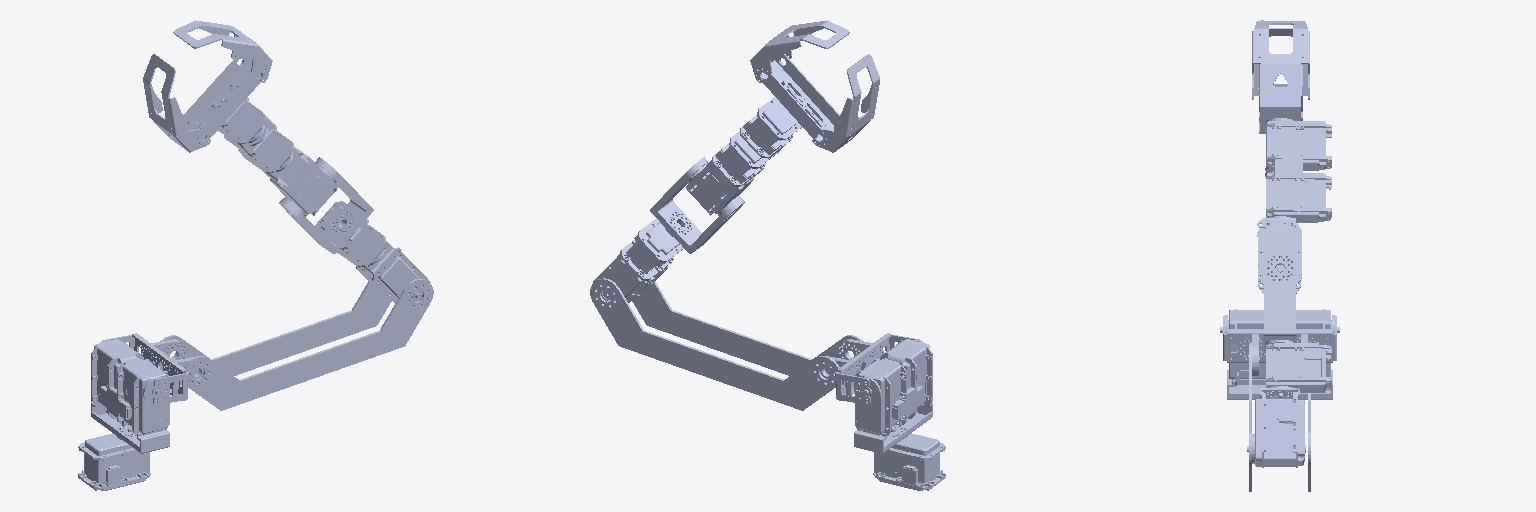
URDF robot description (doris_arm_description):
<?xml version="1.0" encoding="utf-8"?>
<!-- This URDF was automatically created by SolidWorks to URDF Exporter! Originally created by [author] ([email redacted]) 
     Commit Version: 1.6.0-1-g15f4949  Build Version: 1.6.7594.29634
     For more information, please see http://wiki.ros.org/sw_urdf_exporter -->
<robot name="doris_arm_description">
  <link name="arm_base_link">
    <inertial>
      <origin xyz="0.0032335 -3.6289E-06 0.02346" rpy="0 0 0" />
      <mass value="0.086496" />
      <inertia ixx="2.3059E-05" ixy="1.641E-09" ixz="-1.0628E-06" iyy="4.136E-05" iyz="-2.3103E-09" izz="3.2692E-05" />
    </inertial>
    <visual>
      <origin xyz="0 0 0" rpy="0 0 0" />
      <geometry>
        <mesh filename="package://doris_arm_description/meshes/arm_base_link.STL" />
      </geometry>
      <material name="">
        <color rgba="0.79216 0.81961 0.93333 1" />
      </material>
    </visual>
    <collision>
      <origin xyz="0 0 0" rpy="0 0 0" />
      <geometry>
        <mesh filename="package://doris_arm_description/meshes/arm_base_link.STL" />
      </geometry>
    </collision>
  </link>
  <link name="shoulder_link">
    <inertial>
      <origin xyz="1.80019426116503E-06 0.0469908207821207 1.02798098779305E-05" rpy="0 0 0" />
      <mass value="0.187371975468428" />
      <inertia ixx="9.67030340377893E-05" ixy="2.4150387752157E-12" ixz="4.62672389438557E-09" iyy="6.1510621044743E-05" iyz="7.92925862950938E-12" izz="6.80166975361327E-05" />
    </inertial>
    <visual>
      <origin xyz="0 0 0" rpy="0 0 0" />
      <geometry>
        <mesh filename="package://doris_arm_description/meshes/shoulder_link.STL" />
      </geometry>
      <material name="">
        <color rgba="0.792156862745098 0.819607843137255 0.933333333333333 1" />
      </material>
    </visual>
    <collision>
      <origin xyz="0 0 0" rpy="0 0 0" />
      <geometry>
        <mesh filename="package://doris_arm_description/meshes/shoulder_link.STL" />
      </geometry>
    </collision>
  </link>
  <joint name="shoulder_joint" type="continuous">
    <origin xyz="0.018961 0 0.049" rpy="1.5708 0 0" />
    <parent link="arm_base_link" />
    <child link="shoulder_link" />
    <axis xyz="0 1 0" />
    <limit effort="10.6" velocity="6.28" />
  </joint>
  <link name="forearm_link">
    <inertial>
      <origin xyz="-1.08638707938674E-05 0.145957509942709 0.00428434606455026" rpy="0 0 0" />
      <mass value="0.0731491894717436" />
      <inertia ixx="0.00041066540204533" ixy="-8.83711845735471E-13" ixz="6.82686577821298E-14" iyy="4.65670049898224E-05" iyz="5.99306396840699E-05" izz="0.000406035632117776" />
    </inertial>
    <visual>
      <origin xyz="0 0 0" rpy="0 0 0" />
      <geometry>
        <mesh filename="package://doris_arm_description/meshes/forearm_link.STL" />
      </geometry>
      <material name="">
        <color rgba="0.792156862745098 0.819607843137255 0.933333333333333 1" />
      </material>
    </visual>
    <collision>
      <origin xyz="0 0 0" rpy="0 0 0" />
      <geometry>
        <mesh filename="package://doris_arm_description/meshes/forearm_link.STL" />
      </geometry>
    </collision>
  </link>
  <joint name="forearm_shoulder_joint" type="continuous">
    <origin xyz="0 0.0656 0" rpy="0.93003 1.5708 -0.7" />
    <parent link="shoulder_link" />
    <child link="forearm_link" />
    <axis xyz="1 0 0" />
    <limit effort="21.2" velocity="6.28" />
  </joint>
  <link name="elbow_link">
    <inertial>
      <origin xyz="-3.11104449999267E-05 -0.0168263295023695 0.000457294178247414" rpy="0 0 0" />
      <mass value="0.0892046248471317" />
      <inertia ixx="4.19114884689815E-05" ixy="7.60313851177211E-09" ixz="2.31004133361254E-09" iyy="2.38301704178671E-05" iyz="-1.0628369231195E-06" izz="3.29468296689027E-05" />
    </inertial>
    <visual>
      <origin xyz="0 0 0" rpy="0 0 0" />
      <geometry>
        <mesh filename="package://doris_arm_description/meshes/elbow_link.STL" />
      </geometry>
      <material name="">
        <color rgba="0.792156862745098 0.819607843137255 0.933333333333333 1" />
      </material>
    </visual>
    <collision>
      <origin xyz="0 0 0" rpy="0 0 0" />
      <geometry>
        <mesh filename="package://doris_arm_description/meshes/elbow_link.STL" />
      </geometry>
    </collision>
  </link>
  <joint name="elbow_joint" type="continuous">
    <origin xyz="0 0.30821 -0.040455" rpy="1.5708 -0.74886 -1.5708" />
    <parent link="forearm_link" />
    <child link="elbow_link" />
    <axis xyz="0 0 1" />
    <limit effort="10.6" velocity="6.28" />
  </joint>
  <link name="roll_link">
    <inertial>
      <origin xyz="1.19120197594746E-08 -0.010083697233814 -0.0945595691856148" rpy="0 0 0" />
      <mass value="0.108644948048519" />
      <inertia ixx="5.28153270287721E-05" ixy="-1.47234666202985E-09" ixz="1.52885572695569E-09" iyy="5.77906922347199E-05" iyz="-3.14860619233111E-07" izz="4.90755786683178E-05" />
    </inertial>
    <visual>
      <origin xyz="0 0 0" rpy="0 0 0" />
      <geometry>
        <mesh filename="package://doris_arm_description/meshes/roll_link.STL" />
      </geometry>
      <material name="">
        <color rgba="0.792156862745098 0.819607843137255 0.933333333333333 1" />
      </material>
    </visual>
    <collision>
      <origin xyz="0 0 0" rpy="0 0 0" />
      <geometry>
        <mesh filename="package://doris_arm_description/meshes/roll_link.STL" />
      </geometry>
    </collision>
  </link>
  <joint name="roll_joint" type="continuous">
    <origin xyz="0 0 0" rpy="1.5708 0.012731 3.1416" />
    <parent link="elbow_link" />
    <child link="roll_link" />
    <axis xyz="0 0 1" />
    <limit effort="6.4" velocity="6.28" />
  </joint>
  <link name="yaw_link">
    <inertial>
      <origin xyz="4.05516357848967E-05 -0.0160211563366842 -0.000189877443412478" rpy="0 0 0" />
      <mass value="0.0768058991199202" />
      <inertia ixx="3.18297346758585E-05" ixy="-1.07008585036491E-08" ixz="1.50571425102129E-09" iyy="1.87354285358259E-05" iyz="-3.14989775620194E-07" izz="2.57575103945061E-05" />
    </inertial>
    <visual>
      <origin xyz="0 0 0" rpy="0 0 0" />
      <geometry>
        <mesh filename="package://doris_arm_description/meshes/yaw_link.STL" />
      </geometry>
      <material name="">
        <color rgba="0.792156862745098 0.819607843137255 0.933333333333333 1" />
      </material>
    </visual>
    <collision>
      <origin xyz="0 0 0" rpy="0 0 0" />
      <geometry>
        <mesh filename="package://doris_arm_description/meshes/yaw_link.STL" />
      </geometry>
    </collision>
  </link>
  <joint name="yaw_joint" type="continuous">
    <origin xyz="0 0 -0.166" rpy="1.5708 0 1.5708" />
    <parent link="roll_link" />
    <child link="yaw_link" />
    <axis xyz="0 0 1" />
    <limit effort="6.4" velocity="6.28" />
  </joint>
  <link name="roll_2_link">
    <inertial>
      <origin xyz="3.30999898656703E-07 -0.0146248804164249 0.0456383476057014" rpy="0 0 0" />
      <mass value="0.15161780969895" />
      <inertia ixx="6.28798955908907E-05" ixy="-2.94885470174372E-09" ixz="3.0462710061277E-09" iyy="3.67182700275411E-05" iyz="-6.30008633893171E-07" izz="5.20407281608922E-05" />
    </inertial>
    <visual>
      <origin xyz="0 0 0" rpy="0 0 0" />
      <geometry>
        <mesh filename="package://doris_arm_description/meshes/roll_2_link.STL" />
      </geometry>
      <material name="">
        <color rgba="0.792156862745098 0.819607843137255 0.933333333333333 1" />
      </material>
    </visual>
    <collision>
      <origin xyz="0 0 0" rpy="0 0 0" />
      <geometry>
        <mesh filename="package://doris_arm_description/meshes/roll_2_link.STL" />
      </geometry>
    </collision>
  </link>
  <joint name="roll_2_joint" type="continuous">
    <origin xyz="0 -0.054822 -0.00015038" rpy="1.3649 1.5708 -0.2119" />
    <parent link="yaw_link" />
    <child link="roll_2_link" />
    <axis xyz="0 0 1" />
    <limit effort="6.4" velocity="6.28" />
  </joint>
  <link name="gripper_link">
    <inertial>
      <origin xyz="0.0230127657229507 0.000126473527769386 0.00158449770655011" rpy="0 0 0" />
      <mass value="0.0174078384350788" />
      <inertia ixx="2.9772593568185E-06" ixy="-9.76614241037084E-11" ixz="-1.36056666866806E-20" iyy="1.55361628780027E-05" iyz="6.90655615792231E-22" izz="1.79049683506685E-05" />
    </inertial>
    <visual>
      <origin xyz="0 0 0" rpy="0 0 0" />
      <geometry>
        <mesh filename="package://doris_arm_description/meshes/gripper_link.STL" />
      </geometry>
      <material name="">
        <color rgba="0.792156862745098 0.819607843137255 0.933333333333333 1" />
      </material>
    </visual>
    <collision>
      <origin xyz="0 0 0" rpy="0 0 0" />
      <geometry>
        <mesh filename="package://doris_arm_description/meshes/gripper_link.STL" />
      </geometry>
    </collision>
  </link>
  <joint name="gripper_joint" type="fixed">
    <origin xyz="-0.021958 0.00027834 0.10168" rpy="3.1416 0 -0.012731" />
    <parent link="roll_2_link" />
    <child link="gripper_link" />
    <axis xyz="0 0 0" />
  </joint>
  <link name="left_finger_link">
    <inertial>
      <origin xyz="-2.5501E-07 -0.0020883 0.03999" rpy="0 0 0" />
      <mass value="0.0083226" />
      <inertia ixx="6.7417E-06" ixy="4.9528E-11" ixz="-8.9754E-11" iyy="9.1481E-06" iyz="-1.8643E-07" izz="3.3477E-06" />
    </inertial>
    <visual>
      <origin xyz="0 0 0" rpy="0 0 0" />
      <geometry>
        <mesh filename="package://doris_arm_description/meshes/left_finger_link.STL" />
      </geometry>
      <material name="">
        <color rgba="0.79216 0.81961 0.93333 1" />
      </material>
    </visual>
    <collision>
      <origin xyz="0 0 0" rpy="0 0 0" />
      <geometry>
        <mesh filename="package://doris_arm_description/meshes/left_finger_link.STL" />
      </geometry>
    </collision>
  </link>
  <joint name="left_finger_joint" type="continuous">
    <origin xyz="-0.038057 0 -0.0015128" rpy="2.7793 0 1.5708" />
    <parent link="gripper_link" />
    <child link="left_finger_link" />
    <axis xyz="1 0 0" />
    <limit effort="3.2" velocity="6.28" />
  </joint>
  <link name="right_finger_link">
    <inertial>
      <origin xyz="-2.55484871550249E-07 0.0123652457374703 0.0380876079681996" rpy="0 0 0" />
      <mass value="0.00832263335631547" />
      <inertia ixx="6.74172247293139E-06" ixy="1.41443390446518E-11" ixz="-1.01493727185514E-10" iyy="8.28022035597717E-06" iyz="-2.07740904577141E-06" izz="4.21561599047209E-06" />
    </inertial>
    <visual>
      <origin xyz="0 0 0" rpy="0 0 0" />
      <geometry>
        <mesh filename="package://doris_arm_description/meshes/right_finger_link.STL" />
      </geometry>
      <material name="">
        <color rgba="0.792156862745098 0.819607843137255 0.933333333333333 1" />
      </material>
    </visual>
    <collision>
      <origin xyz="0 0 0" rpy="0 0 0" />
      <geometry>
        <mesh filename="package://doris_arm_description/meshes/right_finger_link.STL" />
      </geometry>
    </collision>
  </link>
  <joint name="right_finger_joint" type="continuous">
    <origin xyz="0.081977 0 -0.0015128" rpy="-3.1378 0 -1.5708" />
    <parent link="gripper_link" />
    <child link="right_finger_link" />
    <axis xyz="-1 0 0" />
    <limit effort="3.2" velocity="6.28" />
  </joint>
</robot>

--- Facts derived from the render (not from the file) ---
Views: 3 orthographic renders of the robot side by side, from view 1: azimuth 30°, elevation 25°; view 2: azimuth 150°, elevation 25°; view 3: azimuth 270°, elevation 25°.
Model doris_arm_description with 10 links and 9 joints (8 continuous, 1 fixed), rooted at arm_base_link, posed every joint at zero.
Links seen in each view (by area): view 1: forearm_link, shoulder_link, roll_link, roll_2_link, arm_base_link, gripper_link, yaw_link, right_finger_link, left_finger_link, elbow_link; view 2: forearm_link, shoulder_link, roll_link, roll_2_link, arm_base_link, gripper_link, right_finger_link, left_finger_link, yaw_link, elbow_link; view 3: roll_2_link, roll_link, elbow_link, shoulder_link, left_finger_link, forearm_link, yaw_link, gripper_link, right_finger_link.
Boxes of the visible links, left/top/right/bottom form: forearm_link: left=102, top=279, right=433, bottom=410; shoulder_link: left=91, top=339, right=169, bottom=453; roll_link: left=279, top=157, right=386, bottom=267; roll_2_link: left=218, top=97, right=293, bottom=173; arm_base_link: left=78, top=427, right=150, bottom=490; gripper_link: left=184, top=54, right=266, bottom=144; yaw_link: left=264, top=147, right=337, bottom=216; right_finger_link: left=143, top=54, right=210, bottom=152; left_finger_link: left=173, top=20, right=272, bottom=82; elbow_link: left=356, top=241, right=430, bottom=306; forearm_link: left=590, top=278, right=922, bottom=410; shoulder_link: left=854, top=339, right=932, bottom=453; roll_link: left=620, top=157, right=744, bottom=280; roll_2_link: left=712, top=97, right=801, bottom=186; arm_base_link: left=873, top=427, right=945, bottom=490; gripper_link: left=756, top=54, right=839, bottom=145; right_finger_link: left=812, top=54, right=879, bottom=152; left_finger_link: left=750, top=20, right=849, bottom=82; yaw_link: left=686, top=160, right=761, bottom=215; elbow_link: left=593, top=254, right=667, bottom=302; roll_2_link: left=1265, top=118, right=1331, bottom=222; roll_link: left=1264, top=253, right=1331, bottom=397; elbow_link: left=1247, top=388, right=1305, bottom=467; shoulder_link: left=1220, top=309, right=1339, bottom=399; left_finger_link: left=1252, top=20, right=1309, bottom=111; forearm_link: left=1223, top=316, right=1336, bottom=491; yaw_link: left=1257, top=218, right=1301, bottom=293; gripper_link: left=1260, top=96, right=1300, bottom=133; right_finger_link: left=1252, top=28, right=1309, bottom=133.
Bounding box of the posed robot: 0.3816 × 0.1116 × 0.4673 m (x, y, z).
10 mesh visuals loaded from 10 distinct referenced files (10 binary STL).
